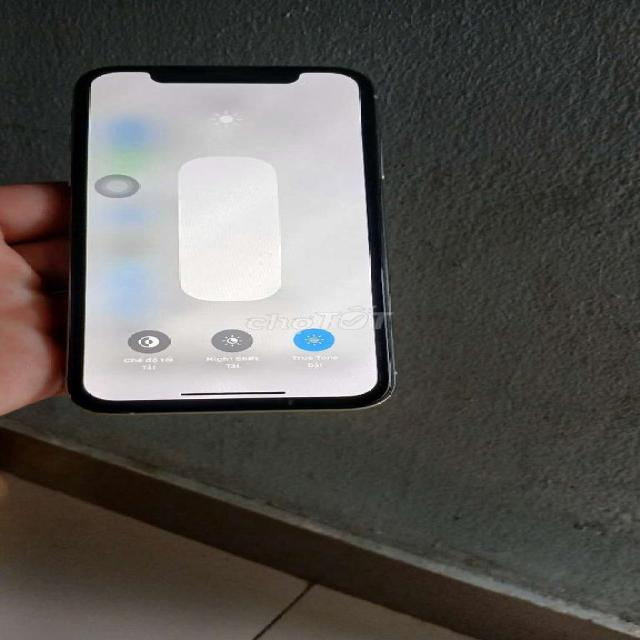gen_x_xs: (51, 59, 410, 420)
